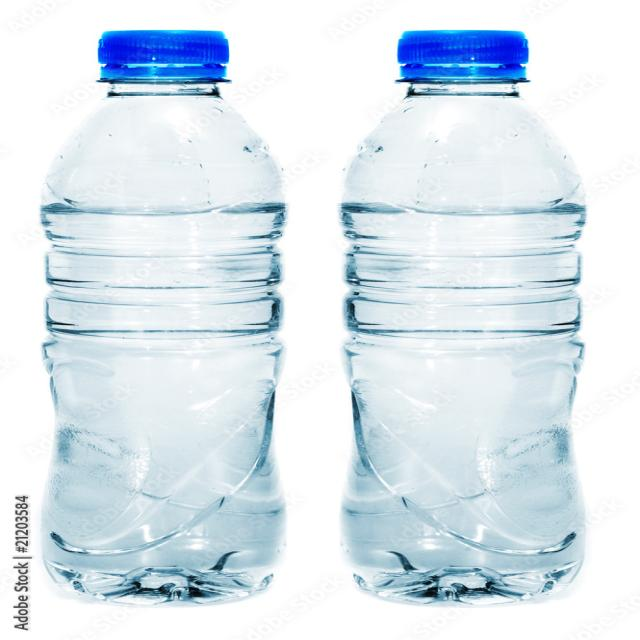bottle: (30, 25, 286, 613), (333, 25, 588, 608)
